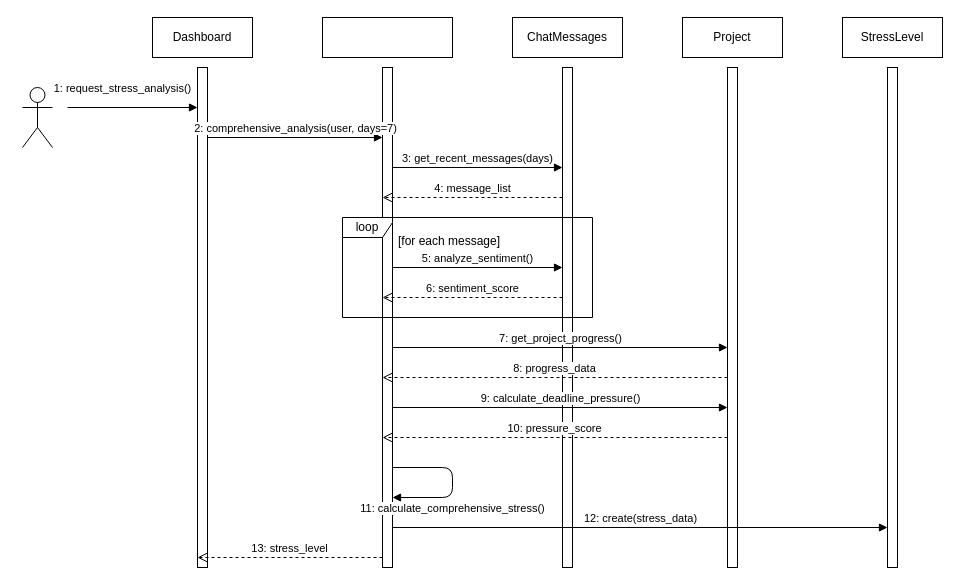
Image size: 960x585. Some labels were removed from this diagram. The shapes that lost their labels are listed below. From the top down, each one's centre as x and y in pixels, then its label:
At (x=387, y=37): "SentimentAnalyzer".
At (x=37, y=117): "Student".
